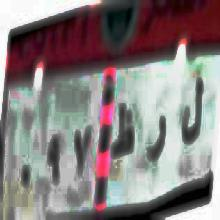0: (17, 151, 34, 194)
7: (72, 113, 94, 176)
9: (43, 125, 66, 184)
Thaa: (109, 91, 138, 161)
laam: (178, 70, 205, 152)
raa: (147, 103, 168, 167)
